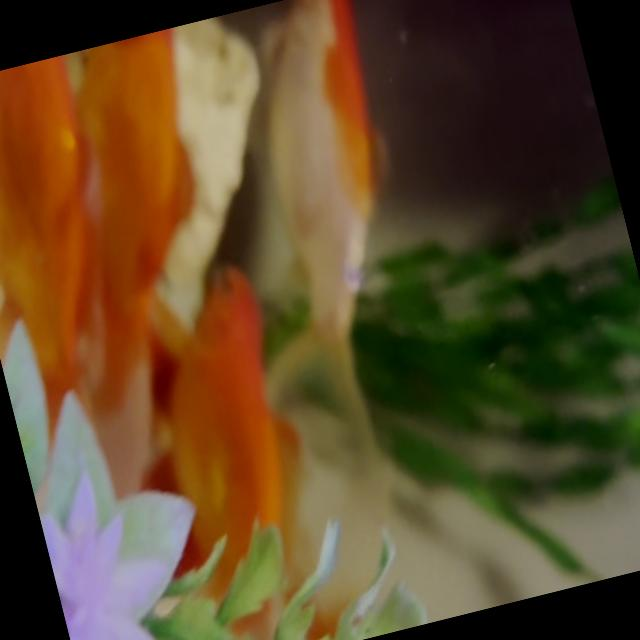fish: (225, 0, 490, 454), (121, 246, 340, 598), (43, 28, 242, 342), (0, 52, 146, 386)
